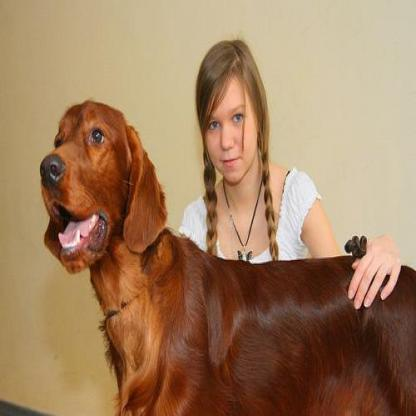Irish_setter: (38, 95, 414, 413)
